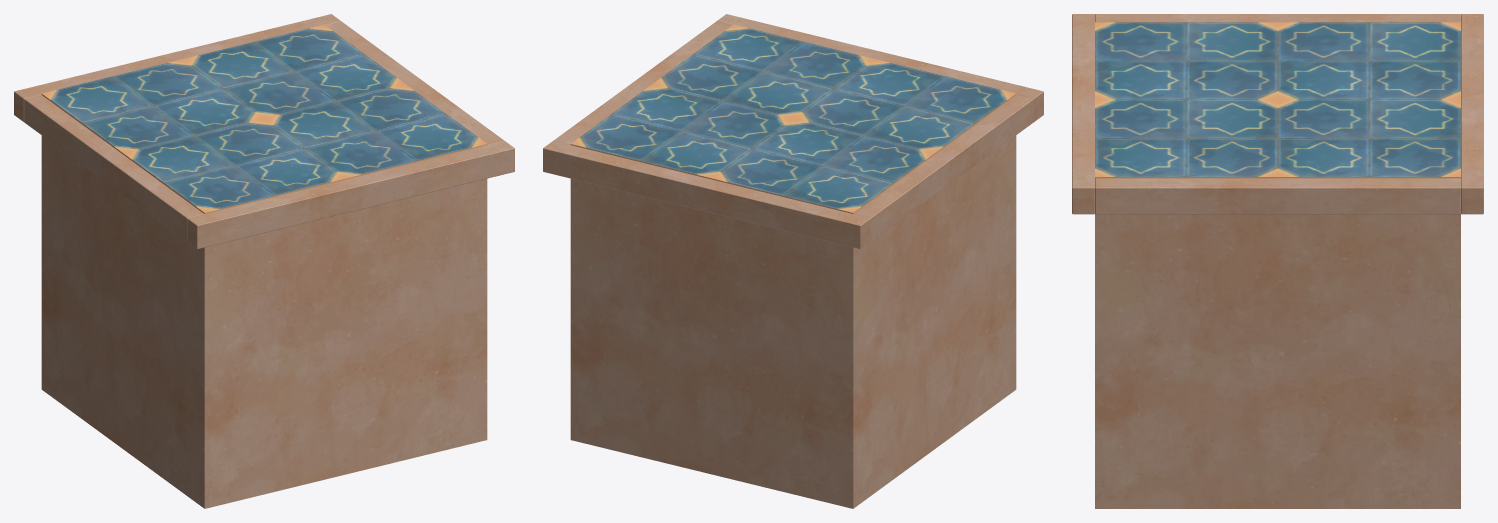
3 views of the same model, side by side, from view 1: azimuth 30°, elevation 25°; view 2: azimuth 150°, elevation 25°; view 3: azimuth 270°, elevation 25° (orthographic). The views are drawn at different scales.
Parts seen in each view (by area): view 1: SM_BB_T4_Foundation_Large_01_LOD0; view 2: SM_BB_T4_Foundation_Large_01_LOD0; view 3: SM_BB_T4_Foundation_Large_01_LOD0.
Part boxes in pixels (x1,y1,x2,y2): SM_BB_T4_Foundation_Large_01_LOD0: [14, 14, 514, 508]; SM_BB_T4_Foundation_Large_01_LOD0: [543, 14, 1043, 508]; SM_BB_T4_Foundation_Large_01_LOD0: [1072, 14, 1483, 508].
Bounding box in the file's own units: 3.38 × 3 × 3.38.
2 materials, 2 textured.
